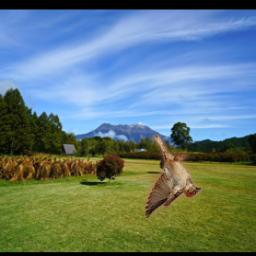Sparrow: (146, 135, 202, 218)
